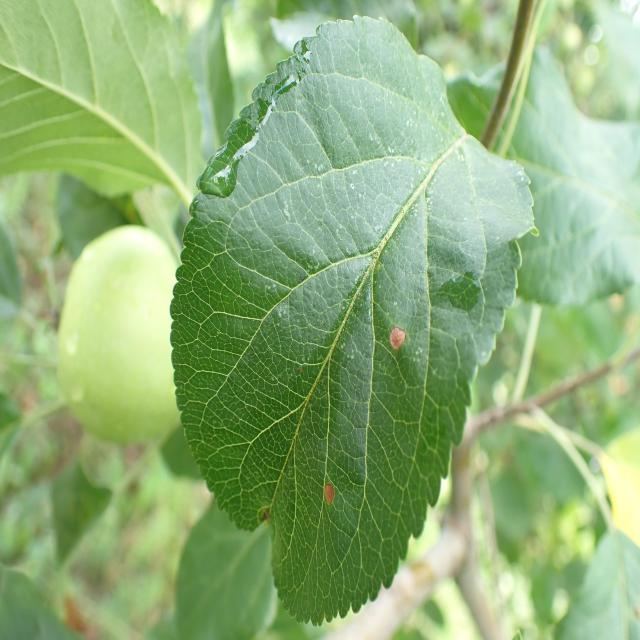Black Rot: (315, 465, 342, 529), (381, 314, 413, 366)
